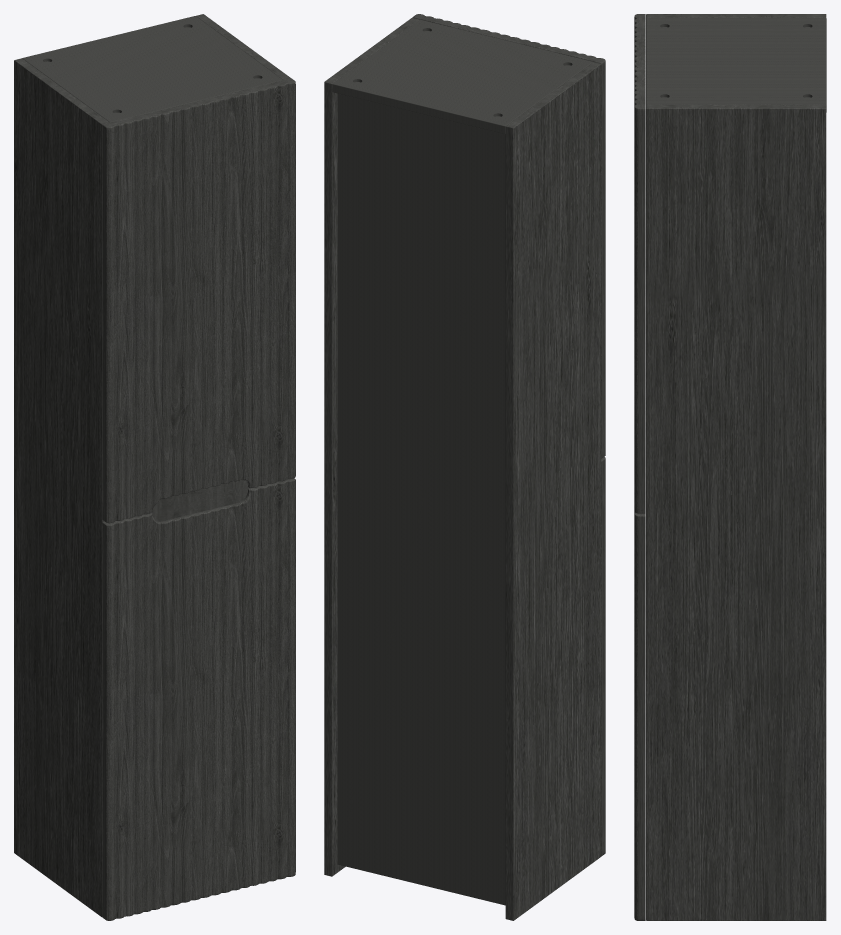
3 views of the same model, side by side, from view 1: azimuth 30°, elevation 25°; view 2: azimuth 150°, elevation 25°; view 3: azimuth 270°, elevation 25° (orthographic). The views are drawn at different scales.
Visible parts, largest first — view 1: Rectangle1830; view 2: Rectangle1830; view 3: Rectangle1830.
Boxes of the visible parts, <box> form: Rectangle1830: <box>14,14,295,920</box>; Rectangle1830: <box>324,14,605,920</box>; Rectangle1830: <box>634,14,826,920</box>.
Bounding box in the file's own units: 0.3504 × 1.4 × 0.3.
Materials: 1 (1 with a texture image).
